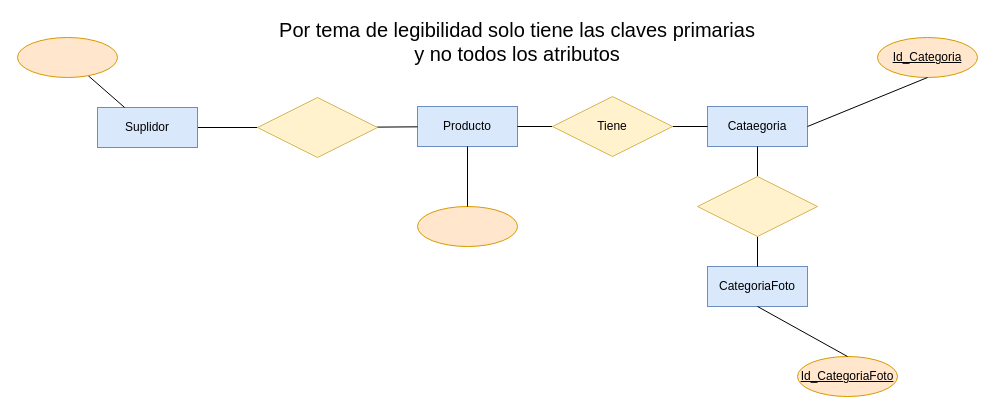
Some shapes in this 995 by 414 pixel diagram are drawn without their labels. The centre of each missing label's shape, as x and y in pixels:
"Id_Producto" goes at point 467,226.
"Id_Suplidor" goes at point 67,57.
"Incluye" goes at point 757,206.
"provee" goes at point 317,127.
